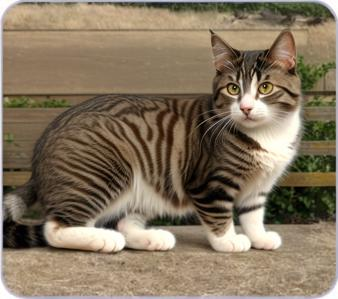cat: (3, 29, 308, 251)
